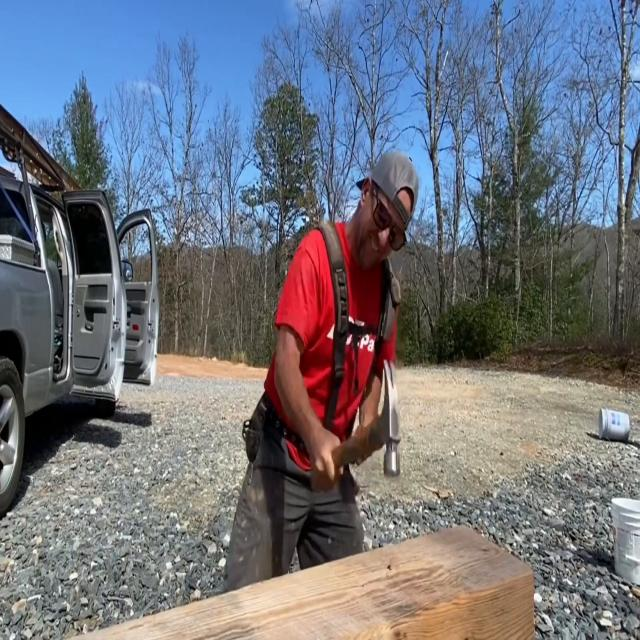hammer: (326, 358, 401, 479)
